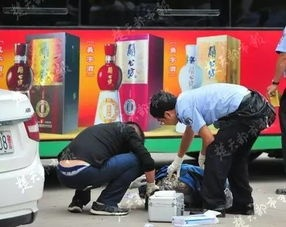falling: (130, 152, 242, 216)
